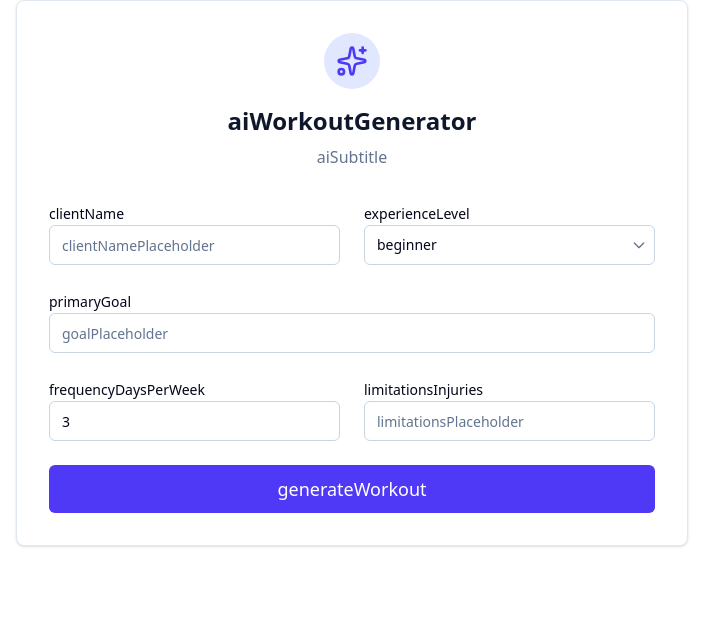
Test: AIWorkoutGenerator › error state shown on failure
The image size is (705, 634).
Type "Test Client" into the field labelled "clientName". click: [194, 245]
box: 49,225 -> 340,265
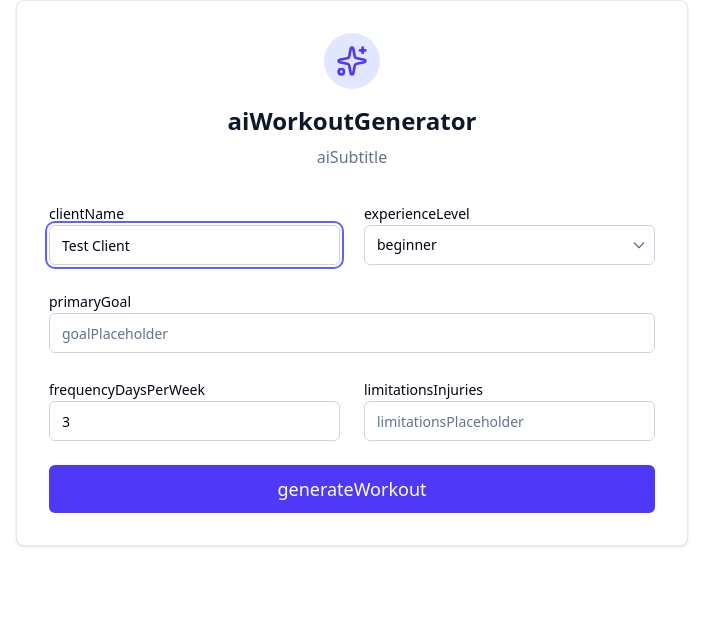
Type "Strength" into the field labelled "primaryGoal". click: [352, 333]
box: 49,313 -> 655,353
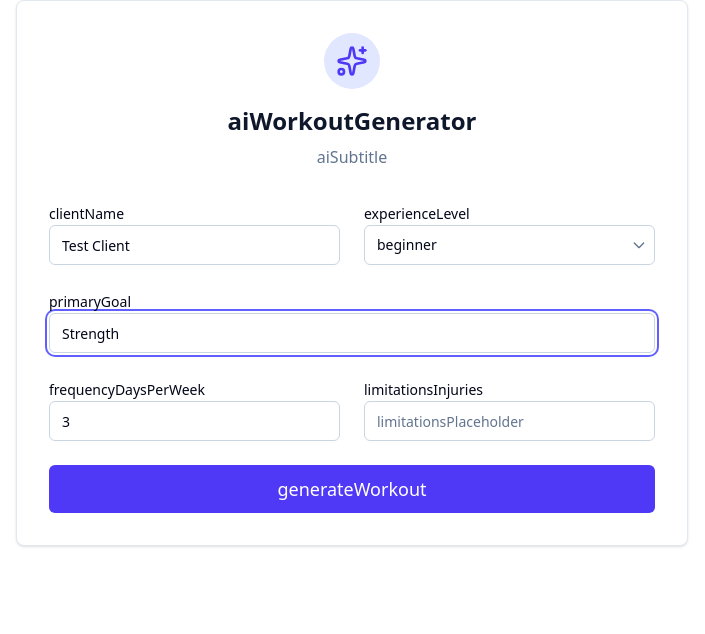
Click the button "generateWorkout". click: [352, 489]
box: 49,465 -> 655,513
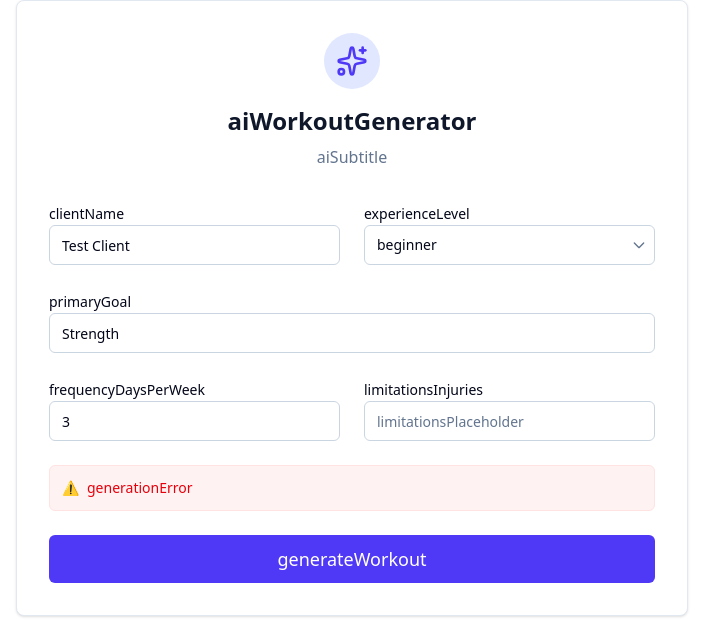
Expected: the text "generationError" is shown, 87,478 -> 192,497
